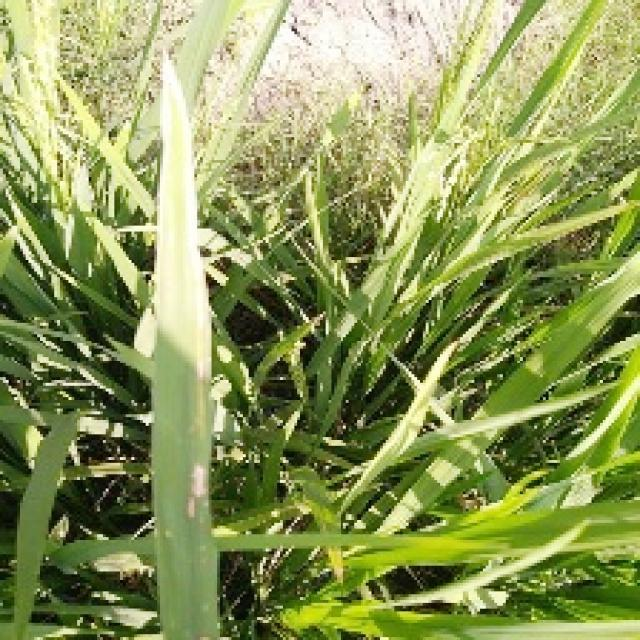health: (425, 148, 640, 640)
